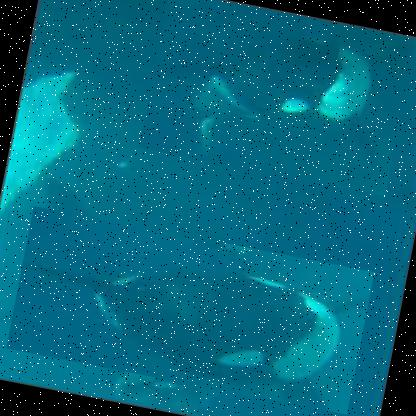killer_whale: (4, 204, 373, 414), (136, 0, 415, 195)
